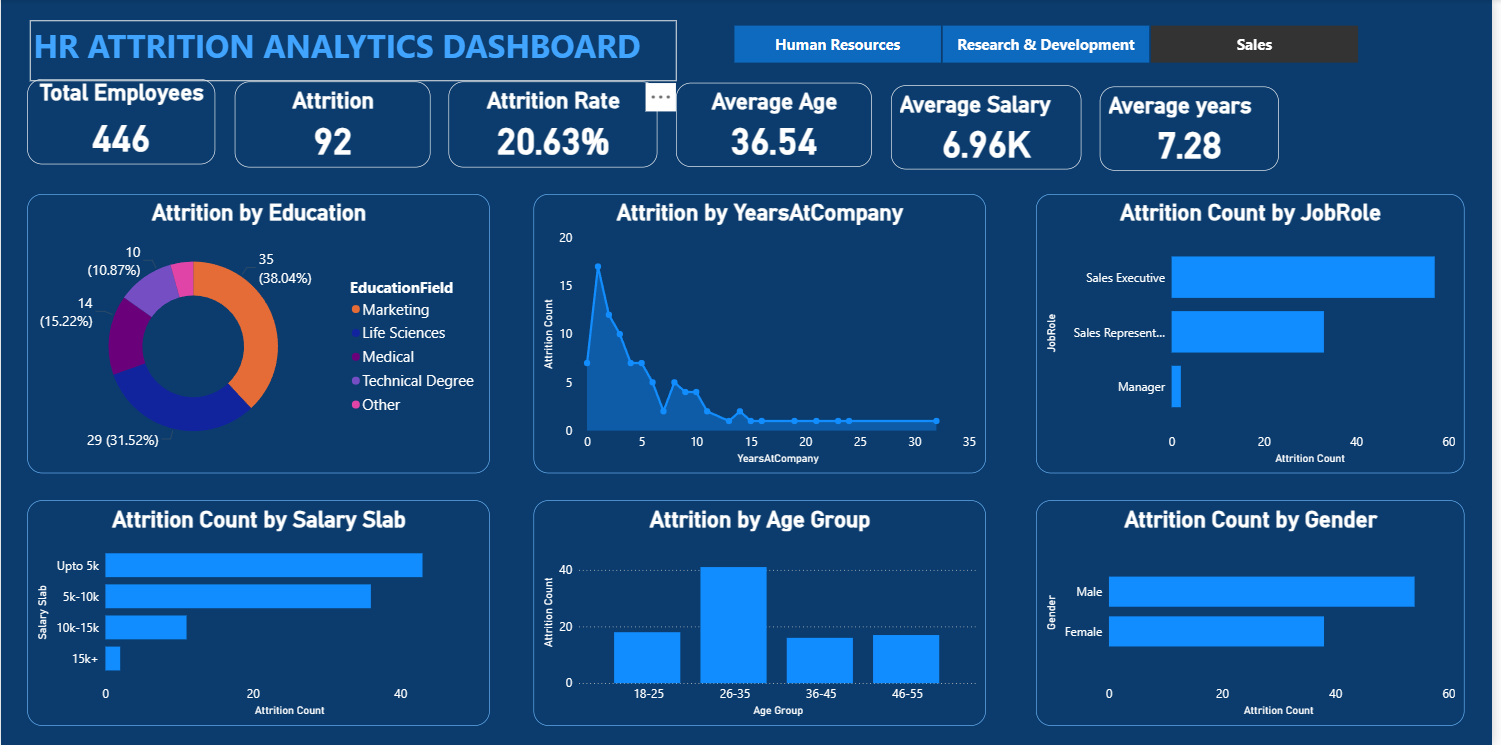

What the dashboard file says about the page in this screenshot:
{"tool":"powerbi","page":{"name":"Page 1","canvas":[2000,1000],"ordinal":0},"visuals":[{"type":"card","title":"Total Employees","fields":{"Values":["CountNonNull(Employee.EmployeeNumber)"]},"box":[36,108,252,114],"z":0},{"type":"card","title":"Attrition","fields":{"Values":["Employee.Attrition Count"]},"box":[312.9,110,262.5,115],"z":1000},{"type":"card","title":"Attrition Rate","fields":{"Values":["Employee.Attrition Rate"]},"box":[600.3,110,280,115],"z":2000},{"type":"card","title":"Average Age","fields":{"Values":["Avg(Employee.Age)"]},"box":[905.2,112.5,262.5,112.5],"z":3000},{"type":"card","title":"Average Salary","fields":{"Values":["Avg(Employee.MonthlyIncome)"]},"box":[1192.6,115,255,112.5],"z":4000},{"type":"card","title":"Average years","fields":{"Values":["Avg(Employee.YearsAtCompany)"]},"box":[1472.5,117.5,240,112.5],"z":5000},{"type":"donutChart","title":"Attrition  by Education","fields":{"Category":["Employee.EducationField"],"Y":["Employee.Attrition Count"]},"box":[36,262,620,374],"z":6000},{"type":"areaChart","title":"Attrition  by YearsAtCompany","fields":{"Category":["Employee.YearsAtCompany"],"Y":["Employee.Attrition Count"]},"box":[714,262,606,374],"z":7000},{"type":"clusteredBarChart","fields":{"Y":["Employee.Attrition Count"],"Category":["Employee.Salary Slab"]},"box":[36,672,620,302],"z":8000},{"type":"clusteredBarChart","fields":{"Y":["Employee.Attrition Count"],"Category":["Employee.JobRole"]},"box":[1388,262,574,374],"z":10000},{"type":"barChart","fields":{"Category":["Employee.Gender"],"Y":["Employee.Attrition Count"]},"box":[1388,672,574,302],"z":11000},{"type":"slicer","title":"Department Filter","fields":{"Values":["Employee.Department"]},"box":[956,28,886,64],"z":12000},{"type":"textbox","box":[38,28,868,82],"z":12001},{"type":"clusteredColumnChart","title":"Attrition by Age Group","fields":{"Y":["Employee.Attrition Count"],"Category":["Employee.Age Group"]},"box":[714,672,606,302],"z":12002}]}

Visuals, with their boxes in screenshot pixels (x1, y1, x2, y2), scaled from the page's 2000x1000 canvas onto the 1501x745 screenshot:
"Total Employees" card: <box>27,80,216,165</box>
"Attrition" card: <box>235,82,432,168</box>
"Attrition Rate" card: <box>451,82,661,168</box>
"Average Age" card: <box>679,84,876,168</box>
"Average Salary" card: <box>895,86,1086,169</box>
"Average years" card: <box>1105,88,1285,171</box>
"Attrition  by Education" donutChart: <box>27,195,492,474</box>
"Attrition  by YearsAtCompany" areaChart: <box>536,195,991,474</box>
clusteredBarChart - Employee.Attrition Count x Employee.Salary Slab: <box>27,501,492,726</box>
clusteredBarChart - Employee.Attrition Count x Employee.JobRole: <box>1042,195,1472,474</box>
barChart - Employee.Gender x Employee.Attrition Count: <box>1042,501,1472,726</box>
"Department Filter" slicer: <box>717,21,1382,69</box>
textbox: <box>29,21,680,82</box>
"Attrition by Age Group" clusteredColumnChart: <box>536,501,991,726</box>
